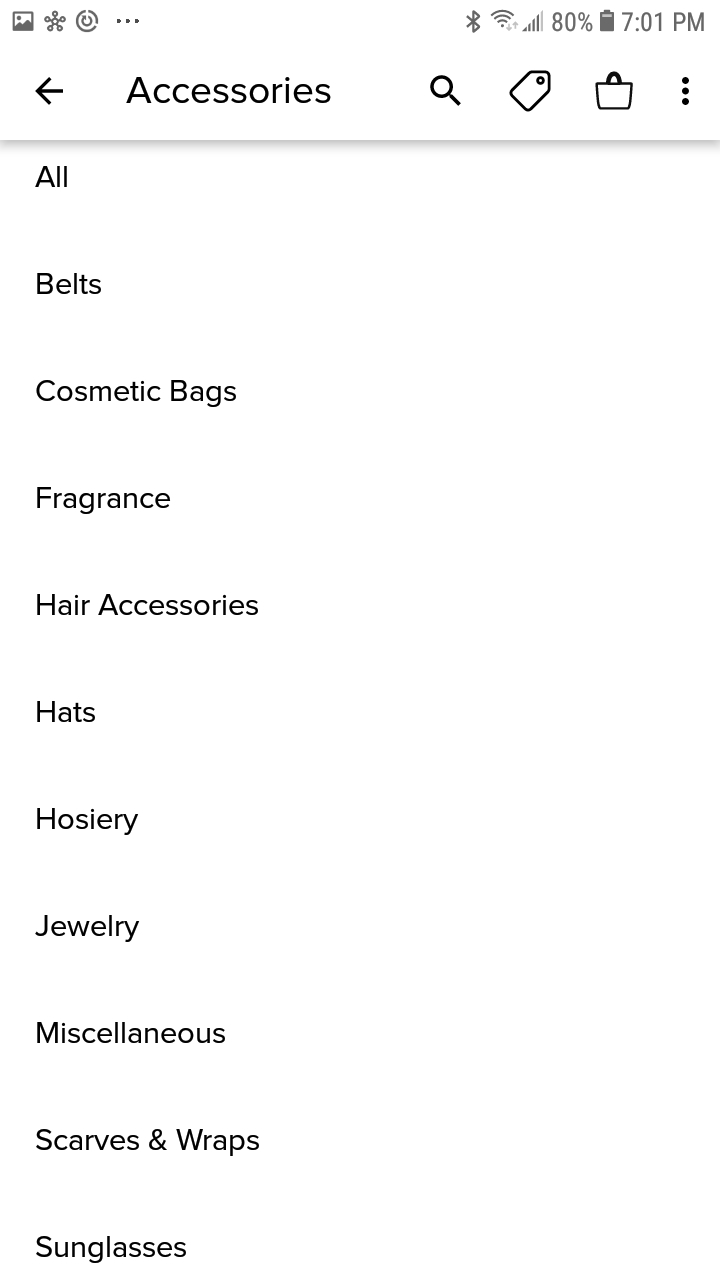Icon: (509, 70, 552, 113), (595, 72, 634, 111), (430, 75, 462, 107), (36, 77, 65, 106), (681, 77, 690, 106)
Text: (36, 1128, 260, 1157), (36, 379, 237, 408), (126, 77, 332, 105), (37, 593, 259, 616), (36, 1235, 187, 1264), (37, 1021, 226, 1044), (37, 486, 171, 515), (36, 914, 141, 943), (38, 807, 140, 836), (37, 273, 103, 296), (37, 701, 97, 724), (36, 166, 69, 189)
UpperTaskBar: (1, 1, 720, 34)
